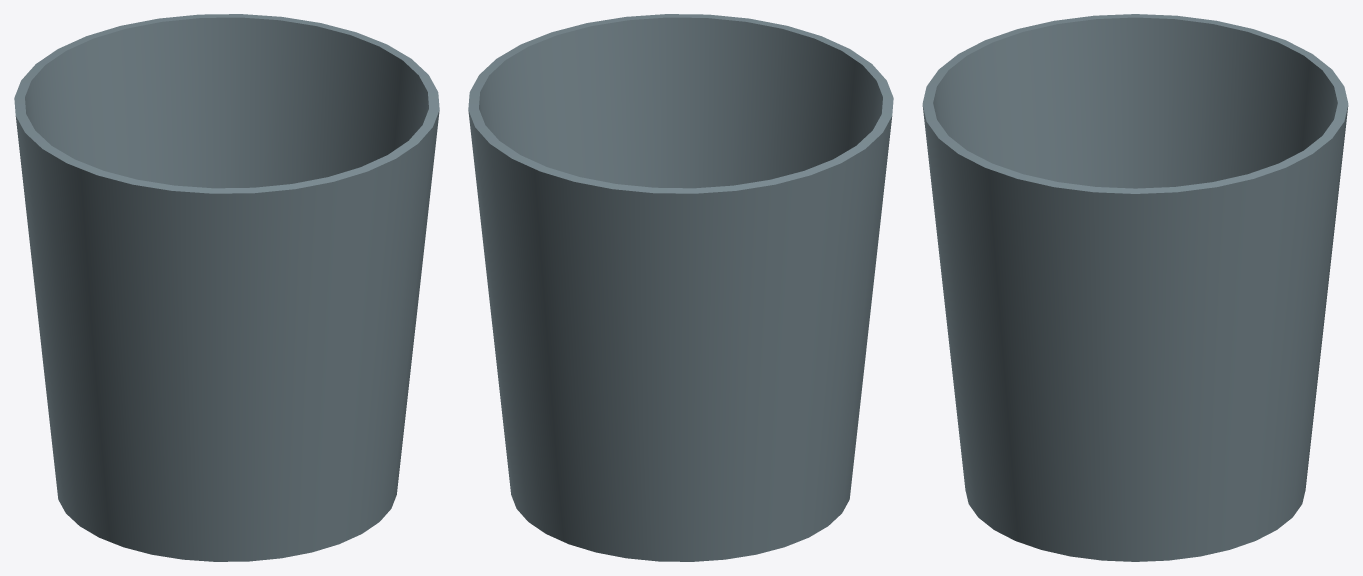
The model's file is trashcan_01.glb.
3 views of the same model, side by side, from view 1: azimuth 30°, elevation 25°; view 2: azimuth 150°, elevation 25°; view 3: azimuth 270°, elevation 25° (orthographic).
Parts seen in each view (by area): view 1: Cylinder.120; view 2: Cylinder.120; view 3: Cylinder.120.
Part boxes in pixels (box(x1,y1,x2,y2)): Cylinder.120: box(14, 14, 439, 561); Cylinder.120: box(468, 14, 893, 561); Cylinder.120: box(922, 14, 1348, 561).
Size of the model in its own units: 0.3561 by 0.3569 by 0.3561.
